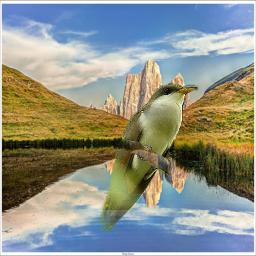Cuckoo: (97, 83, 199, 232)
